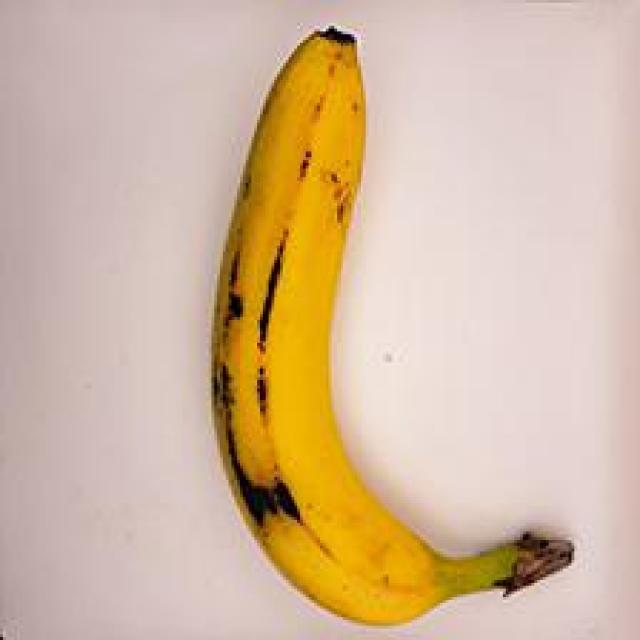Overripe: (199, 17, 596, 639)
